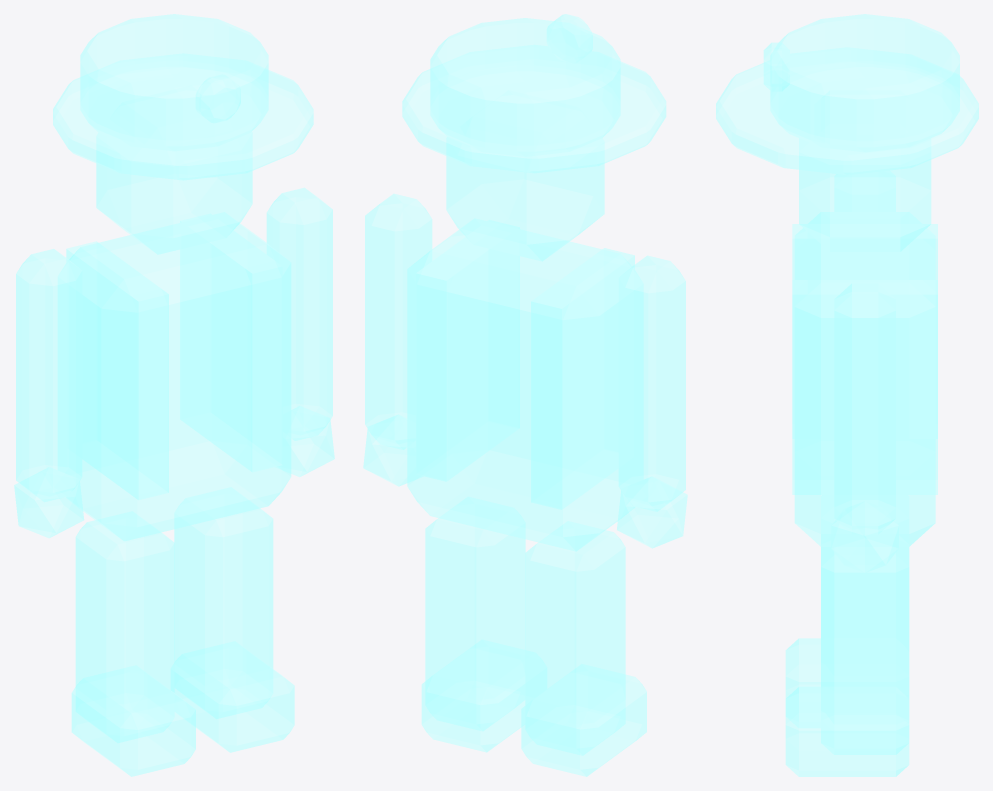
Rendered from GH_Character_Miner.fbx.
3 renders of one model, left to right at view 1: azimuth 30°, elevation 25°; view 2: azimuth 150°, elevation 25°; view 3: azimuth 270°, elevation 25°, orthographic.
Visible parts, largest first — view 1: SM_Character_Miner; view 2: SM_Character_Miner; view 3: SM_Character_Miner.
Part boxes in pixels (x1,y1,x2,y2): SM_Character_Miner: [14, 14, 334, 776]; SM_Character_Miner: [363, 14, 687, 776]; SM_Character_Miner: [716, 14, 978, 776].
Bounding box in the file's own units: 0.821 × 1.73 × 0.5948.
